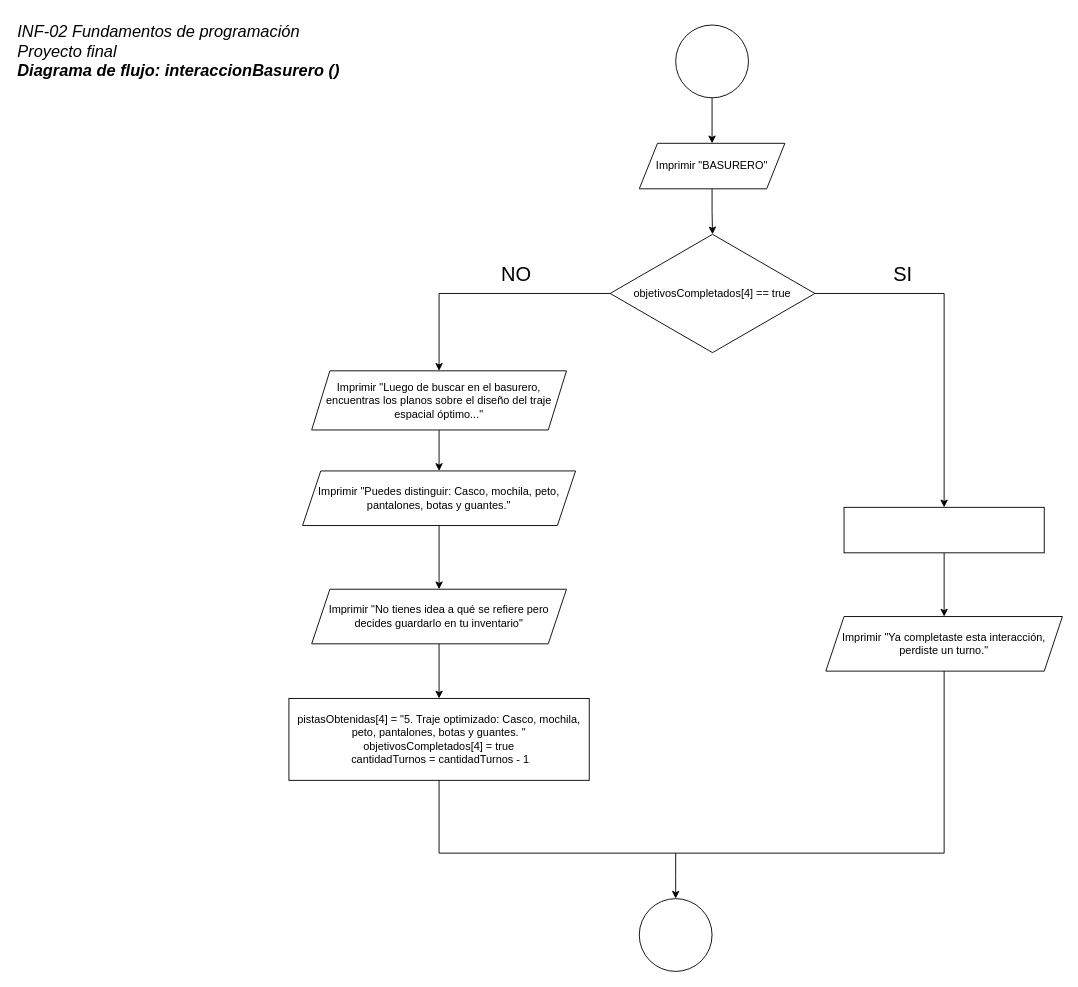
This 1078x987 diagram has some shape labels left out. Here are the shapes that lost their labels. From the top down, the centre of each, then its label:
At point 711,61: "Inicio".
At point 943,529: "cantidadTurnos = cantidadTurnos - 1".
At point 675,934: "Fin".
